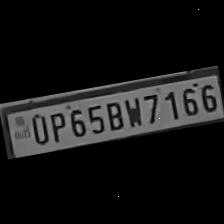1: (157, 86, 180, 122)
5: (82, 100, 106, 135)
6: (175, 82, 199, 118), (195, 79, 218, 114), (64, 104, 86, 139)
7: (139, 90, 163, 124)
B: (100, 96, 125, 132)
P: (44, 108, 68, 144)
U: (24, 110, 50, 147)
W: (120, 94, 144, 130)
